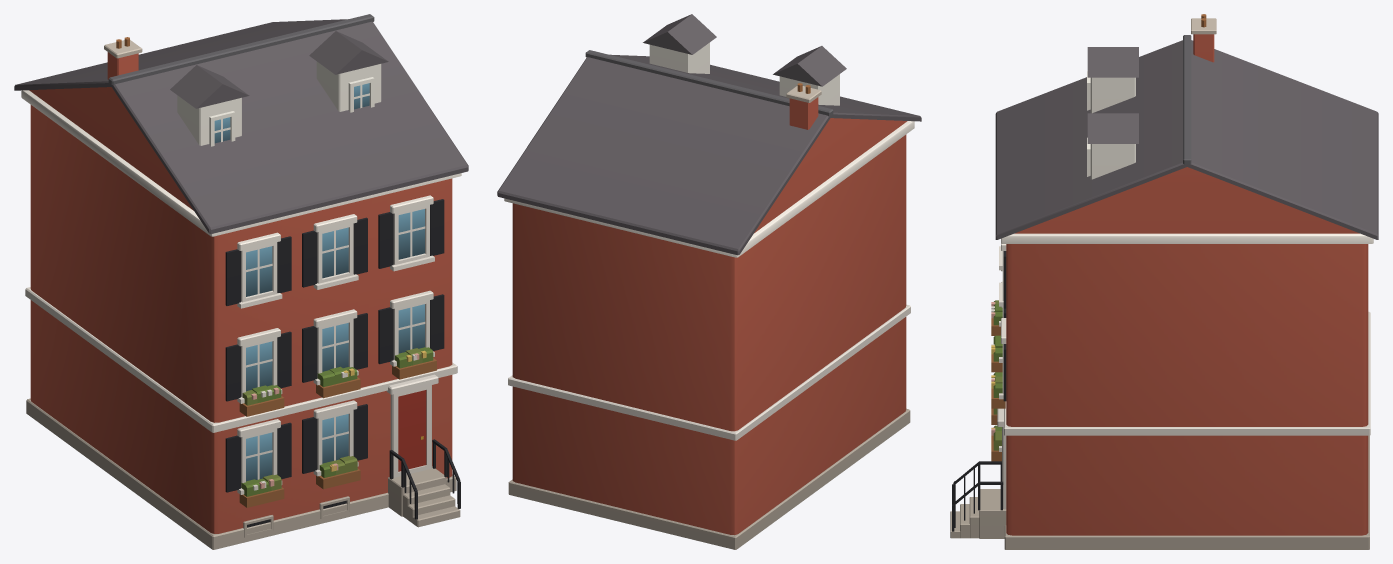
Rendered from lane_e1.glb.
3 views of the same model, side by side, from view 1: azimuth 30°, elevation 25°; view 2: azimuth 150°, elevation 25°; view 3: azimuth 270°, elevation 25° (orthographic). The views are drawn at different scales.
Parts seen in each view (by area): view 1: lane_e1; view 2: lane_e1; view 3: lane_e1.
Part boxes in pixels (x1,y1,x2,y2): lane_e1: (14,14,468,549); lane_e1: (497,14,921,549); lane_e1: (950,14,1378,549).
Bounding box in the file's own units: 9.8 × 15.45 × 14.21.
Materials: 1 (1 with a texture image).
